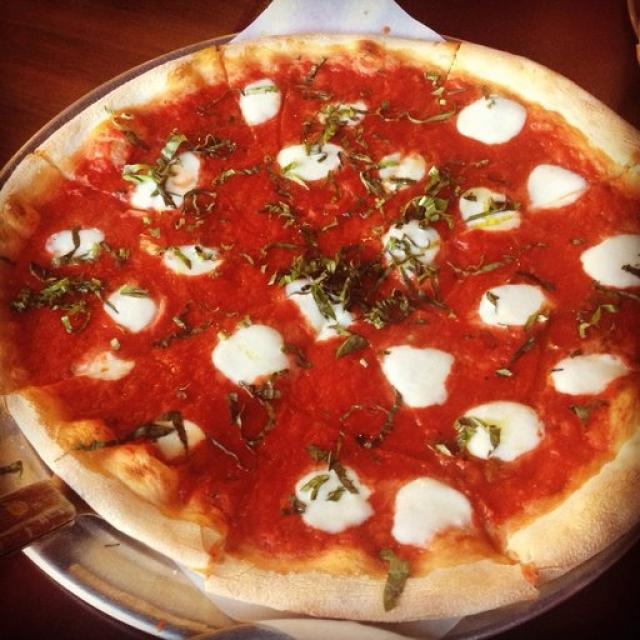Basil: (257, 239, 400, 344), (16, 263, 104, 331), (77, 411, 186, 453), (127, 133, 180, 205), (376, 78, 456, 124), (404, 178, 455, 226), (382, 554, 415, 614), (306, 112, 340, 158), (460, 417, 498, 456), (502, 334, 535, 378), (343, 158, 382, 195), (579, 303, 613, 339), (439, 258, 503, 276)
Cheese: (396, 476, 471, 545), (298, 468, 374, 532), (382, 344, 453, 406), (130, 151, 199, 210), (213, 326, 286, 381), (288, 280, 354, 340), (462, 92, 528, 150), (463, 404, 535, 456), (553, 350, 634, 394), (583, 234, 640, 287), (479, 284, 542, 325), (526, 166, 584, 210), (459, 188, 518, 230), (44, 227, 107, 263), (106, 287, 156, 332), (72, 351, 135, 385), (239, 78, 279, 126), (162, 247, 218, 276), (163, 422, 202, 457)
Pizza: (0, 36, 640, 625)
